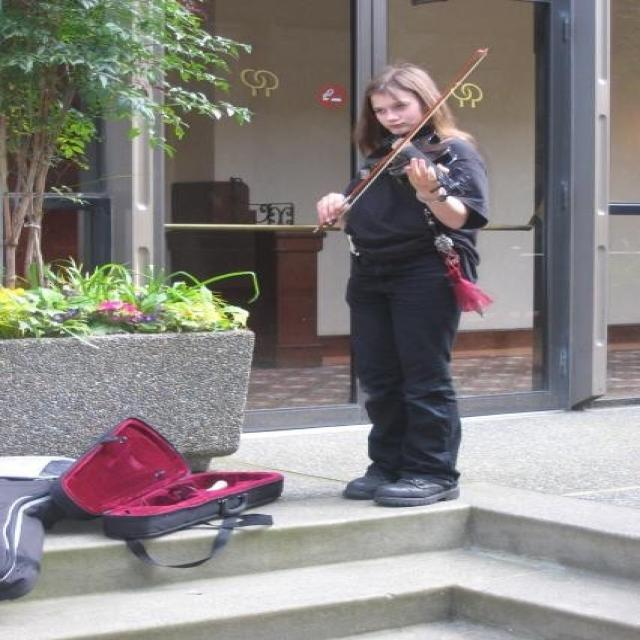violin: (381, 130, 467, 197)
